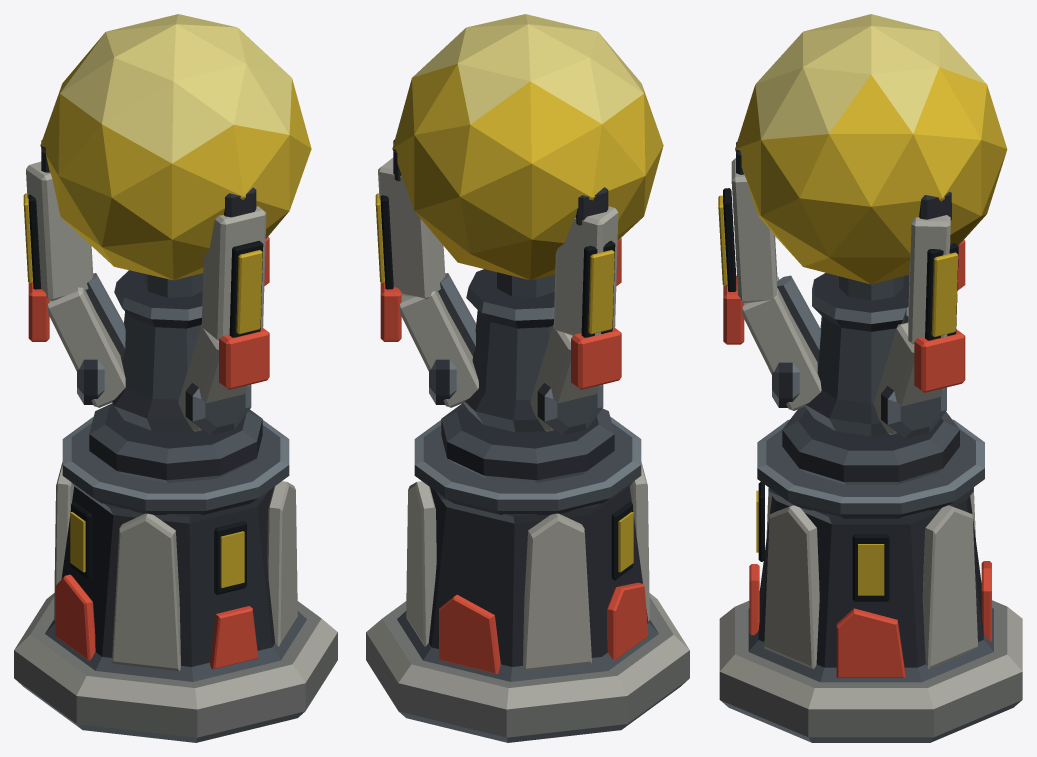
Rendered from lv2_reacteur.glb.
The picture shows the model from 3 angles, left to right: view 1: azimuth 30°, elevation 25°; view 2: azimuth 150°, elevation 25°; view 3: azimuth 270°, elevation 25°; orthographic projection.
Visible parts, largest first — view 1: Turret_Yaw, Base, Base_TeamColor, Team_Panels; view 2: Turret_Yaw, Base, Base_TeamColor, Team_Panels; view 3: Turret_Yaw, Base, Base_TeamColor, Team_Panels.
Boxes of the visible parts, left/top/right/bottom form: Turret_Yaw: left=23, top=14, right=311, bottom=483; Base: left=14, top=417, right=337, bottom=742; Base_TeamColor: left=55, top=574, right=258, bottom=669; Team_Panels: left=28, top=236, right=269, bottom=389; Turret_Yaw: left=375, top=14, right=663, bottom=483; Base: left=366, top=417, right=689, bottom=742; Base_TeamColor: left=439, top=582, right=648, bottom=673; Team_Panels: left=380, top=238, right=621, bottom=389; Turret_Yaw: left=718, top=14, right=1007, bottom=484; Base: left=719, top=419, right=1022, bottom=742; Base_TeamColor: left=749, top=561, right=991, bottom=677; Team_Panels: left=723, top=239, right=965, bottom=392.
Bounding box in the file's own units: 1.09 × 2.6 × 1.09.
